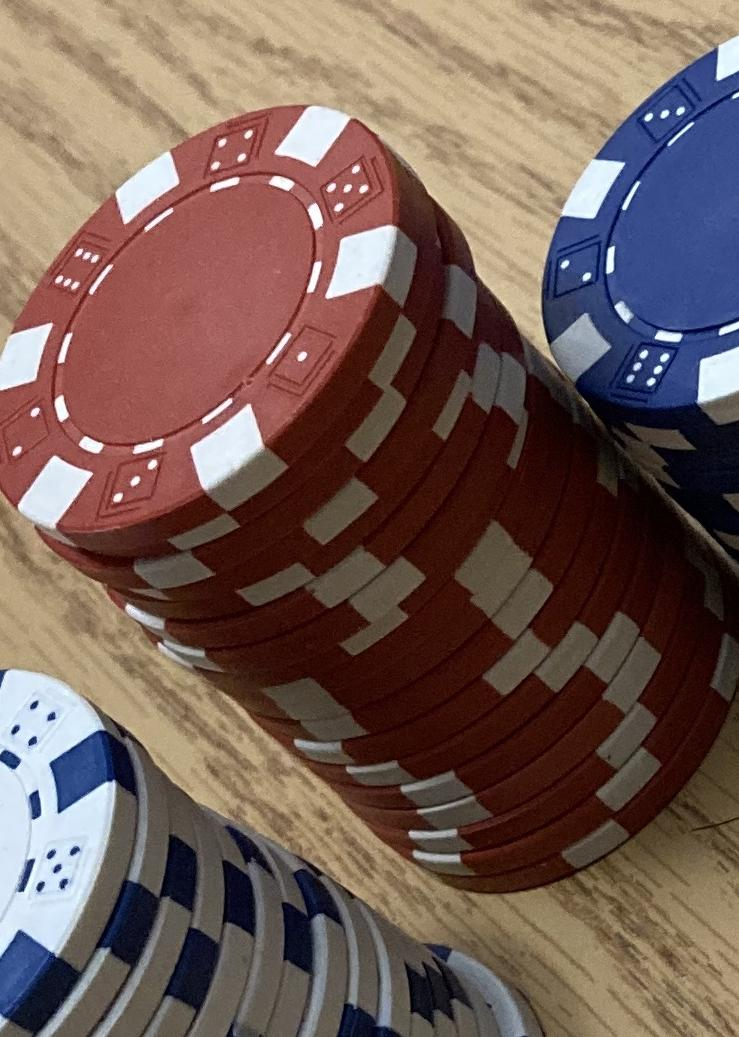Chip: (1, 1, 739, 1037)
